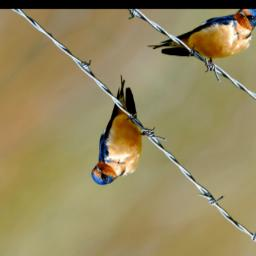Swallow: (54, 75, 180, 198)
